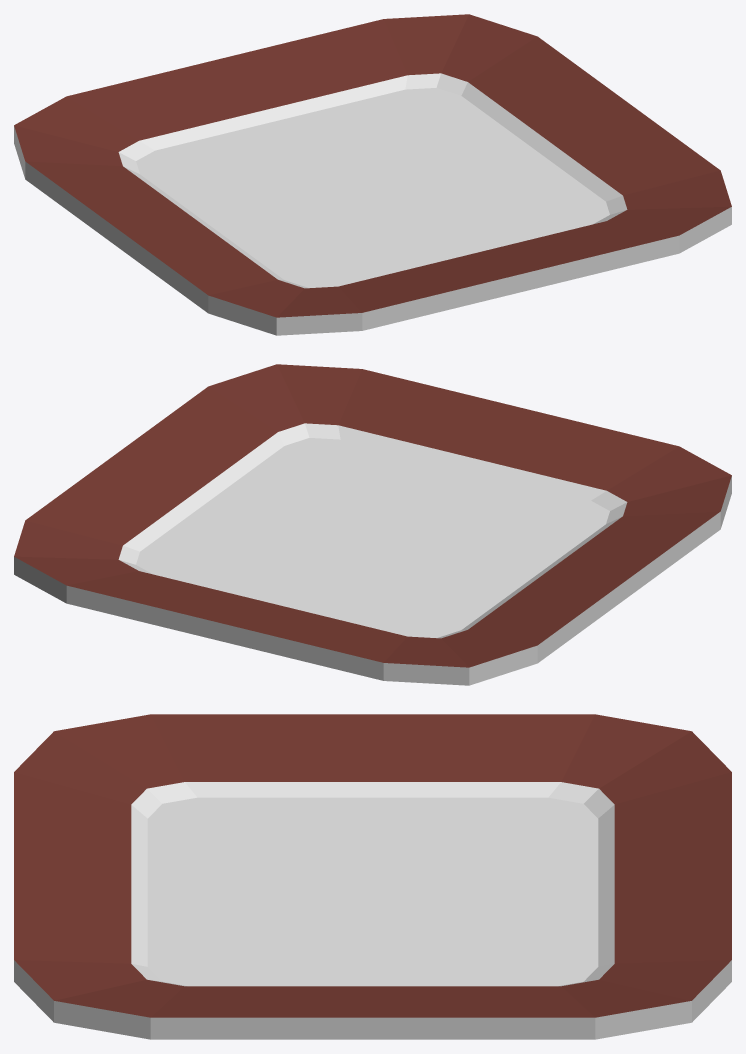
File: R_Plate_Dish_1.fbx
3 views of the same model, one above another, from view 1: azimuth 30°, elevation 25°; view 2: azimuth 150°, elevation 25°; view 3: azimuth 270°, elevation 25° (orthographic). The views are drawn at different scales.
Visible parts, largest first — view 1: R_Plate_Dish_1; view 2: R_Plate_Dish_1; view 3: R_Plate_Dish_1.
Part boxes in pixels (bbox=[...]): R_Plate_Dish_1: bbox=[14, 14, 731, 335]; R_Plate_Dish_1: bbox=[14, 364, 731, 685]; R_Plate_Dish_1: bbox=[14, 714, 731, 1039].
Bounding box in the file's own units: 200 × 200 × 16.68.
